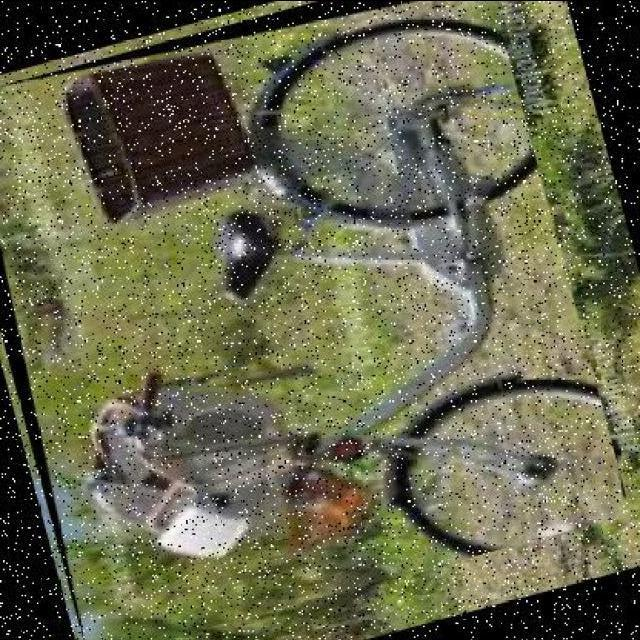bicycle: (1, 3, 633, 640)
